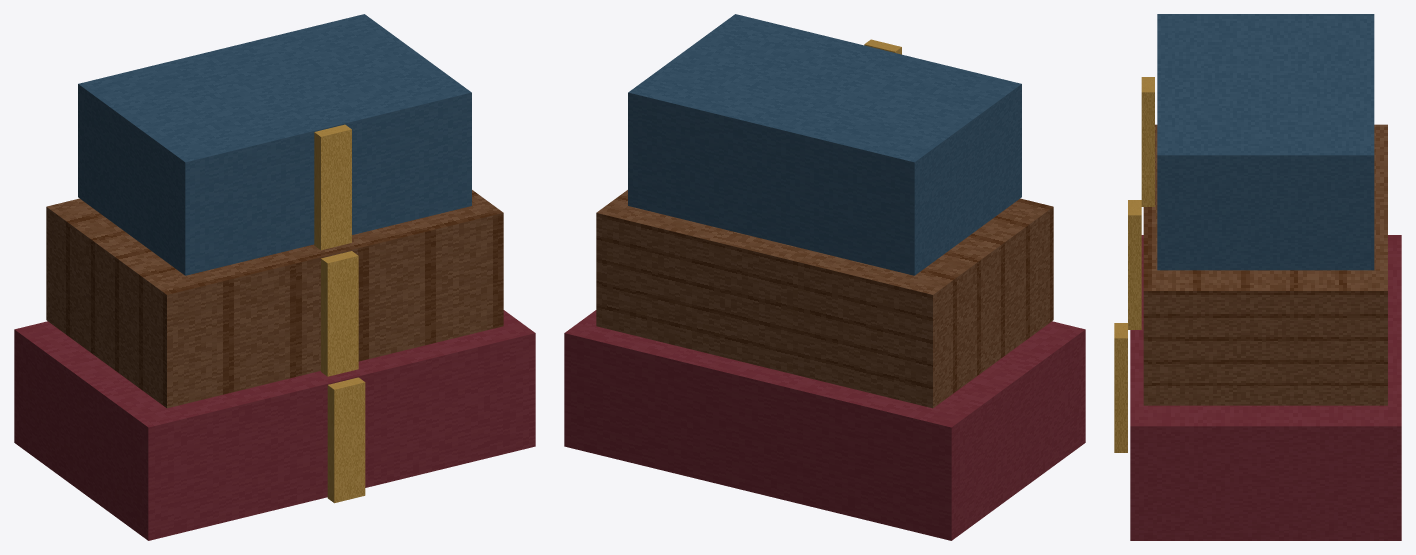
Rendered from luggage_stack.glb.
3 views of the same model, side by side, from view 1: azimuth 30°, elevation 25°; view 2: azimuth 150°, elevation 25°; view 3: azimuth 270°, elevation 25° (orthographic).
Parts seen in each view (by area): view 1: case (×3), strap (×3); view 2: case (×3); view 3: case (×3), strap (×3).
Part boxes in pixels (x1,y1,x2,y2): case (×3): (14,14,535,540); strap (×3): (314,124,365,503); case (×3): (564,14,1085,540); case (×3): (1130,14,1401,540); strap (×3): (1114,77,1154,452).
Bounding box in the file's own units: 1 × 0.88 × 0.635.
1 material, 1 textured.
